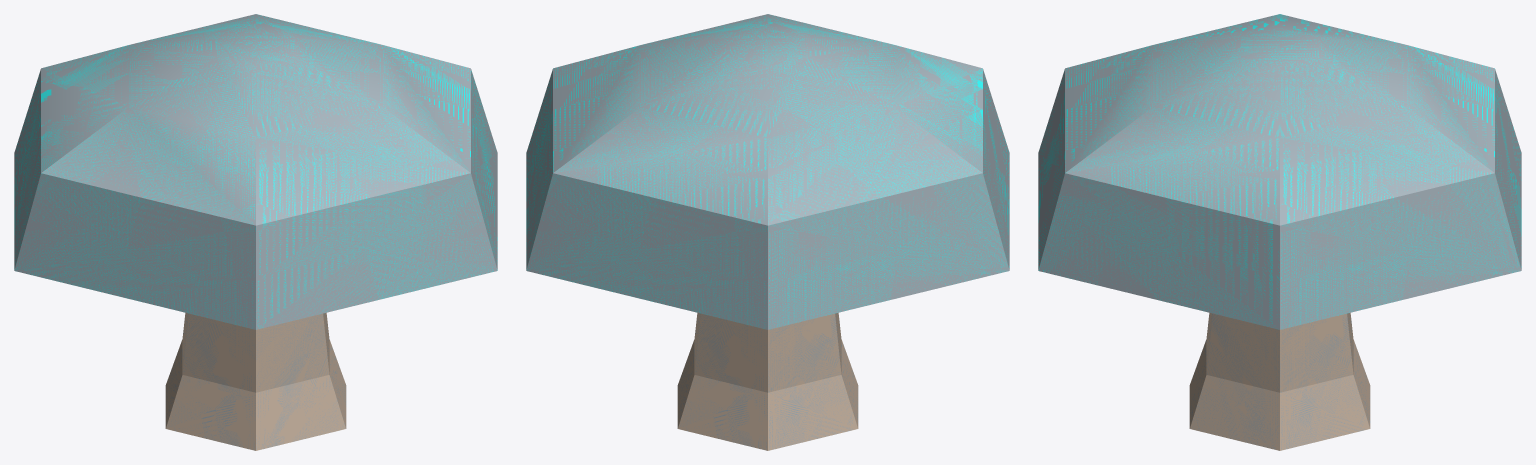
The model's file is Mushroom_07.fbx.
3 renders of one model, left to right at view 1: azimuth 30°, elevation 25°; view 2: azimuth 150°, elevation 25°; view 3: azimuth 270°, elevation 25°, orthographic.
Parts seen in each view (by area): view 1: Model; view 2: Model; view 3: Model.
Part boxes in pixels (x1,y1,x2,y2): Model: (14, 14, 497, 450); Model: (526, 14, 1009, 450); Model: (1038, 14, 1521, 450).
Size of the model in its own units: 65.04 by 46.23 by 56.33.
